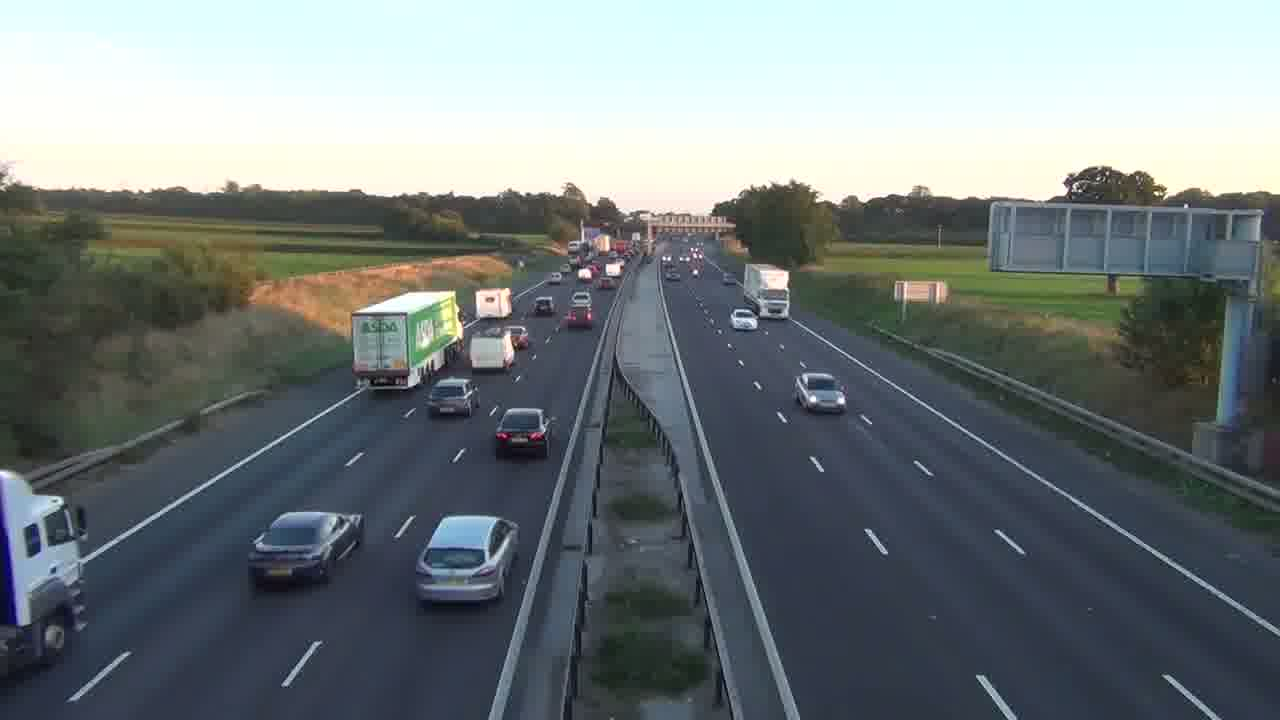bus: (352, 289, 461, 390)
car: (413, 513, 520, 608), (247, 509, 364, 590), (494, 407, 550, 457), (793, 371, 848, 414), (427, 377, 480, 418), (730, 307, 759, 332)
truck: (0, 470, 90, 677), (352, 289, 461, 390), (742, 263, 790, 319), (473, 287, 513, 320)
